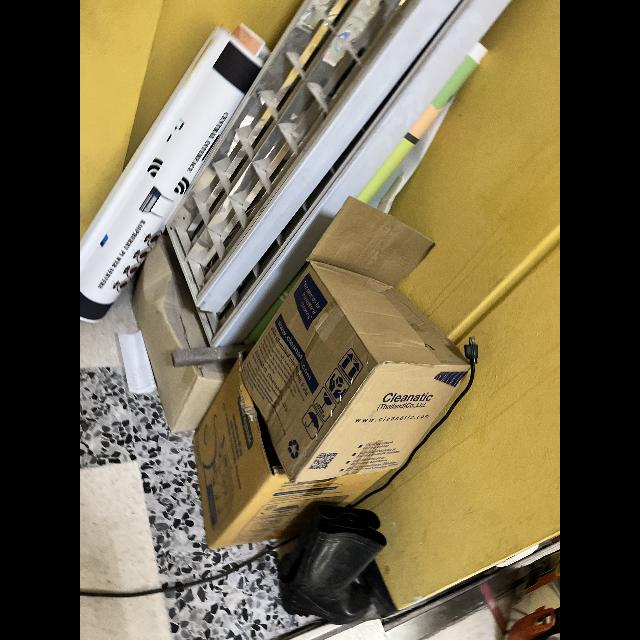cardboard_box: (245, 195, 470, 485), (192, 354, 394, 548), (131, 238, 231, 446)
